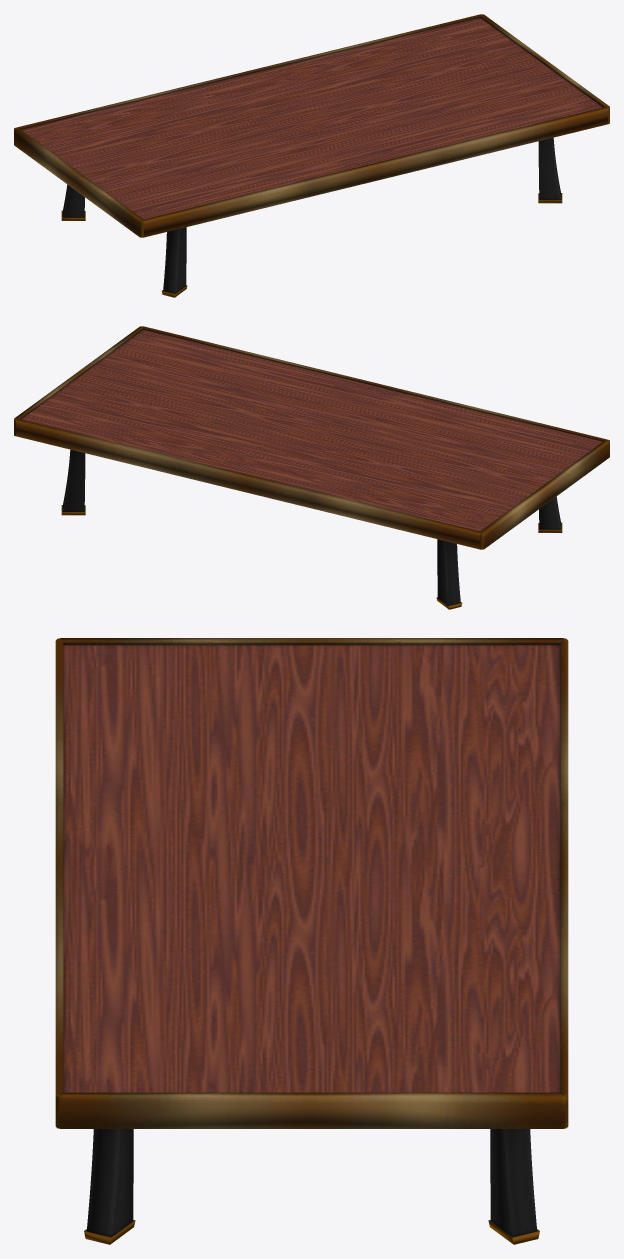
File: Table1.b.fbx
3 views of the same model, one above another, from view 1: azimuth 30°, elevation 25°; view 2: azimuth 150°, elevation 25°; view 3: azimuth 270°, elevation 25° (orthographic). The views are drawn at different scales.
Parts seen in each view (by area): view 1: Group 0; view 2: Group 0; view 3: Group 0.
Boxes of the visible parts, bbox=[...] form: Group 0: bbox=[14, 14, 609, 297]; Group 0: bbox=[14, 326, 609, 609]; Group 0: bbox=[55, 638, 568, 1244].
Bounding box in the file's own units: 186 × 34.35 × 87.65.
Materials: 1 (1 with a texture image).
